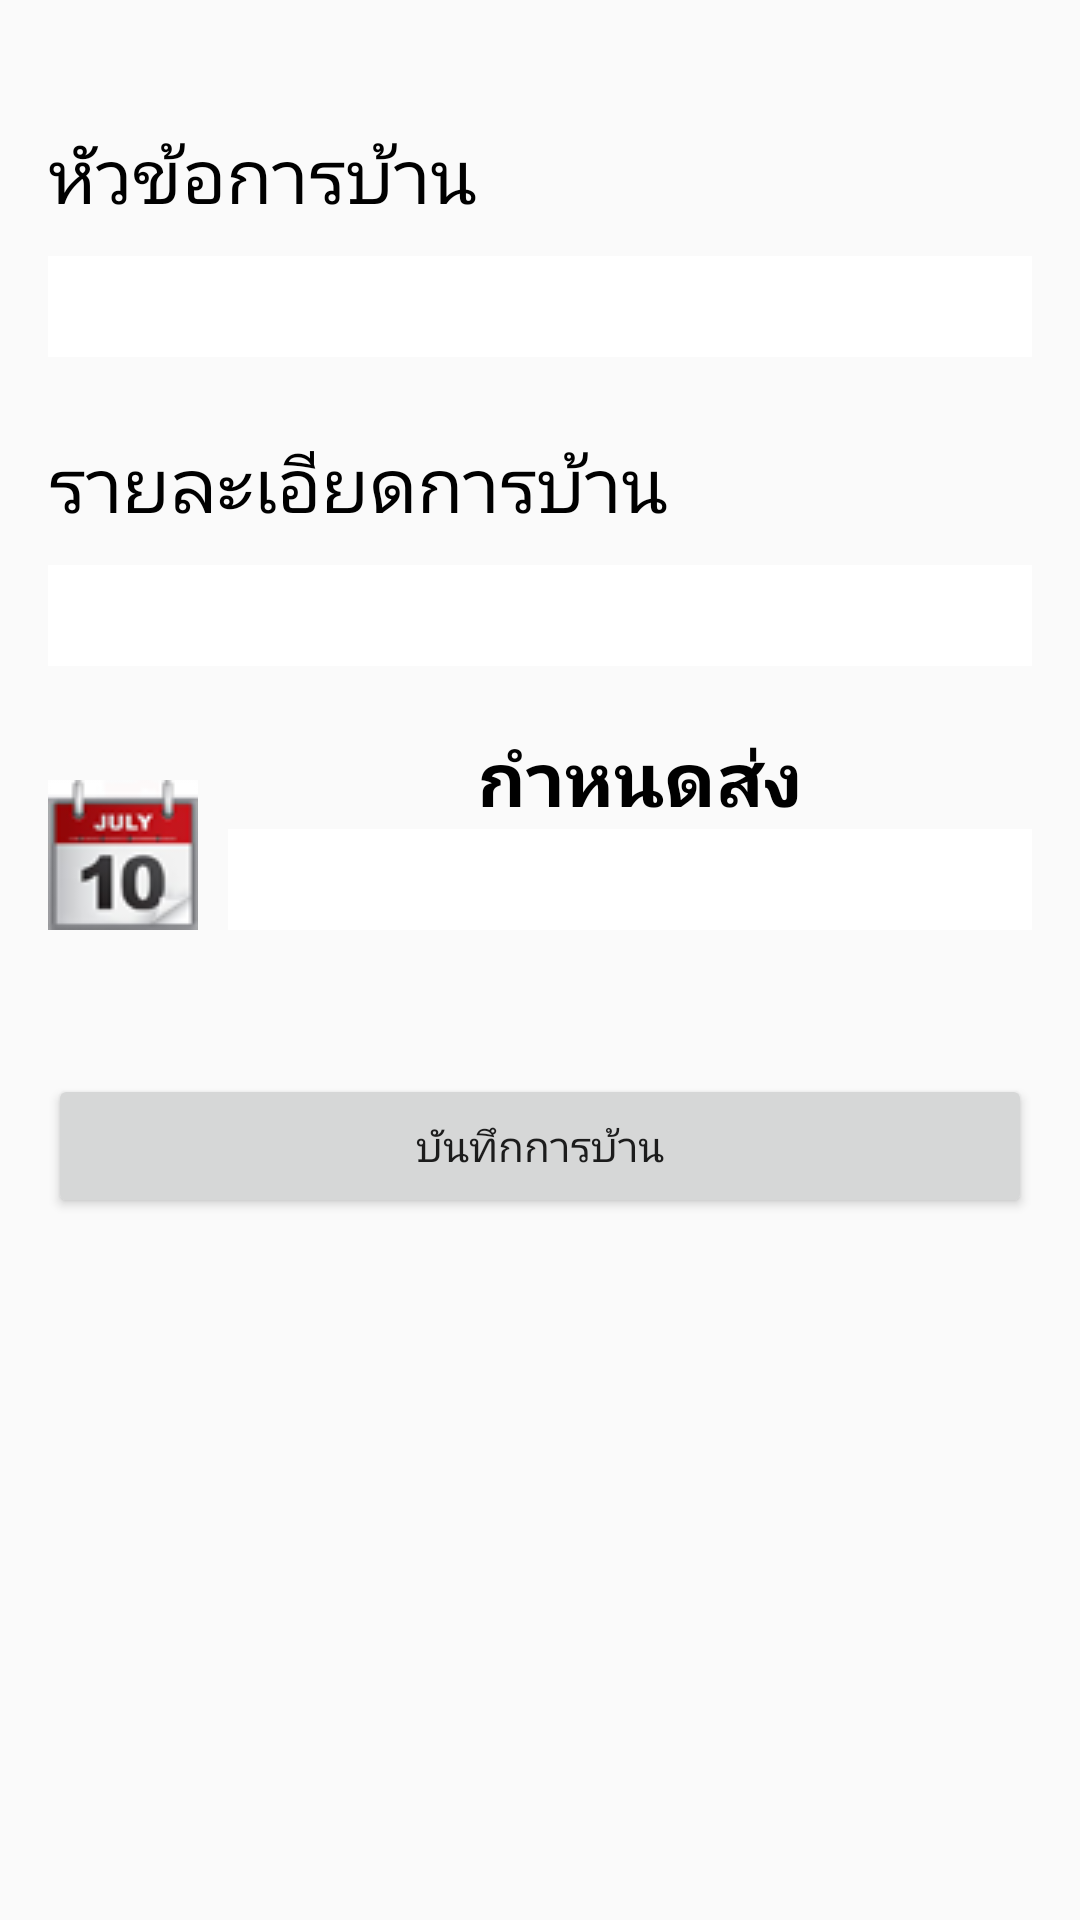

Point at icon controls on the screen. Image size 1080*1920, points as (x=x, y=y).
calen: (x=123, y=855)
